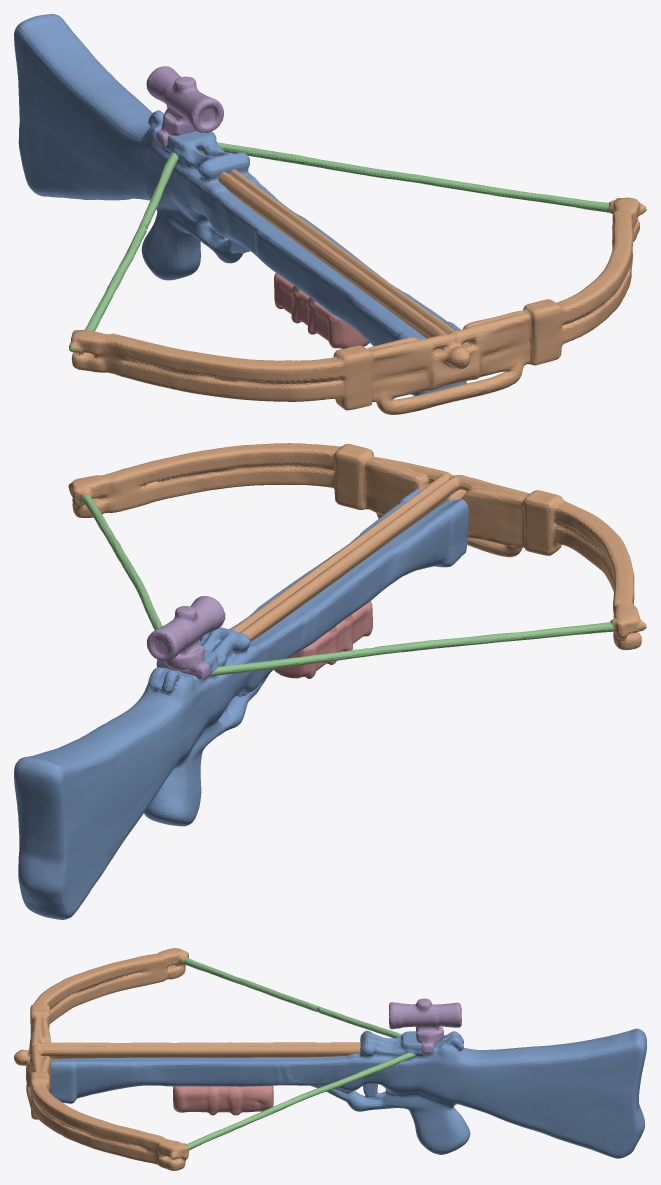
File: railgun_crossbow_1.glb
3 renders of one model, top to bottom at view 1: azimuth 30°, elevation 25°; view 2: azimuth 150°, elevation 25°; view 3: azimuth 270°, elevation 25°, orthographic. The views are drawn at different scales.
Visible parts, largest first — view 1: Wooden_Stock, Magnetic_Rails, Electric_Bowstring, Scope_Sight, Battery_Quiver; view 2: Wooden_Stock, Magnetic_Rails, Electric_Bowstring, Scope_Sight, Battery_Quiver; view 3: Wooden_Stock, Magnetic_Rails, Electric_Bowstring, Battery_Quiver, Scope_Sight.
Boxes of the visible parts, bbox=[...] form: Wooden_Stock: bbox=[14, 14, 466, 395]; Magnetic_Rails: bbox=[69, 150, 645, 414]; Electric_Bowstring: bbox=[69, 142, 646, 352]; Scope_Sight: bbox=[146, 66, 223, 146]; Battery_Quiver: bbox=[274, 273, 369, 348]; Wooden_Stock: bbox=[14, 488, 468, 919]; Magnetic_Rails: bbox=[68, 443, 644, 650]; Electric_Bowstring: bbox=[81, 495, 646, 676]; Scope_Sight: bbox=[147, 596, 225, 679]; Battery_Quiver: bbox=[273, 601, 372, 678]; Wooden_Stock: bbox=[49, 1028, 646, 1158]; Magnetic_Rails: bbox=[14, 948, 360, 1170]; Electric_Bowstring: bbox=[170, 957, 415, 1159]; Battery_Quiver: bbox=[173, 1085, 273, 1115]; Scope_Sight: bbox=[389, 998, 461, 1054].
Size of the model in its own units: 1.48 by 0.5184 by 1.92.
